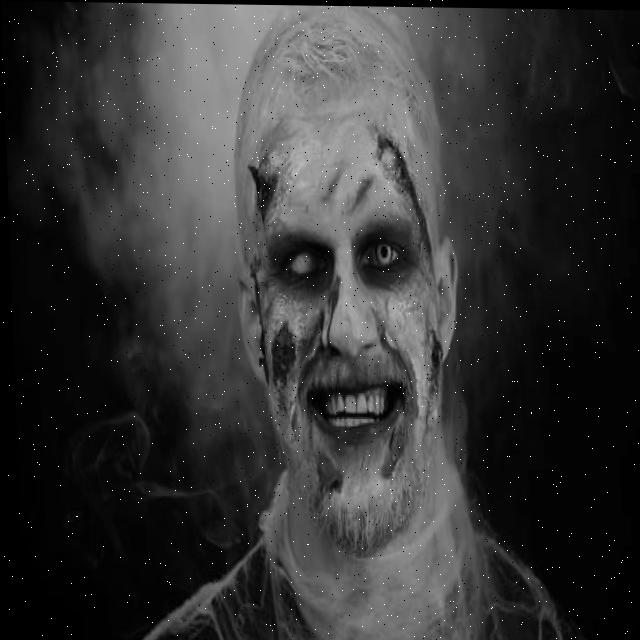Zombie: (215, 3, 466, 547)
